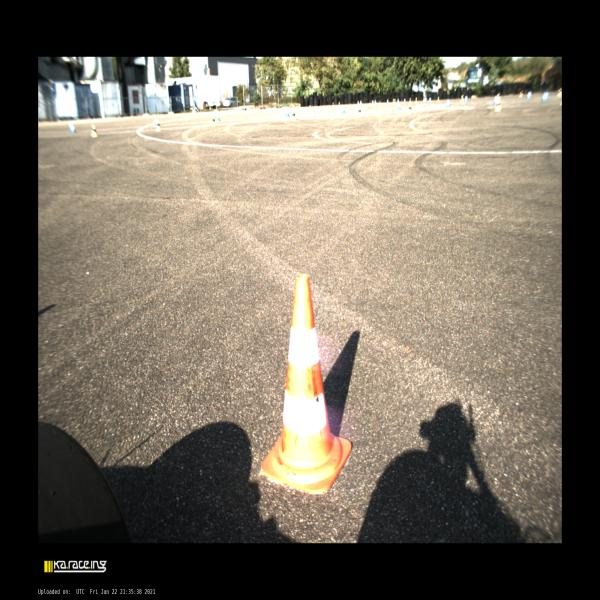large_orange_cone: (262, 274, 352, 494)
yellow_cone: (91, 124, 98, 137)
